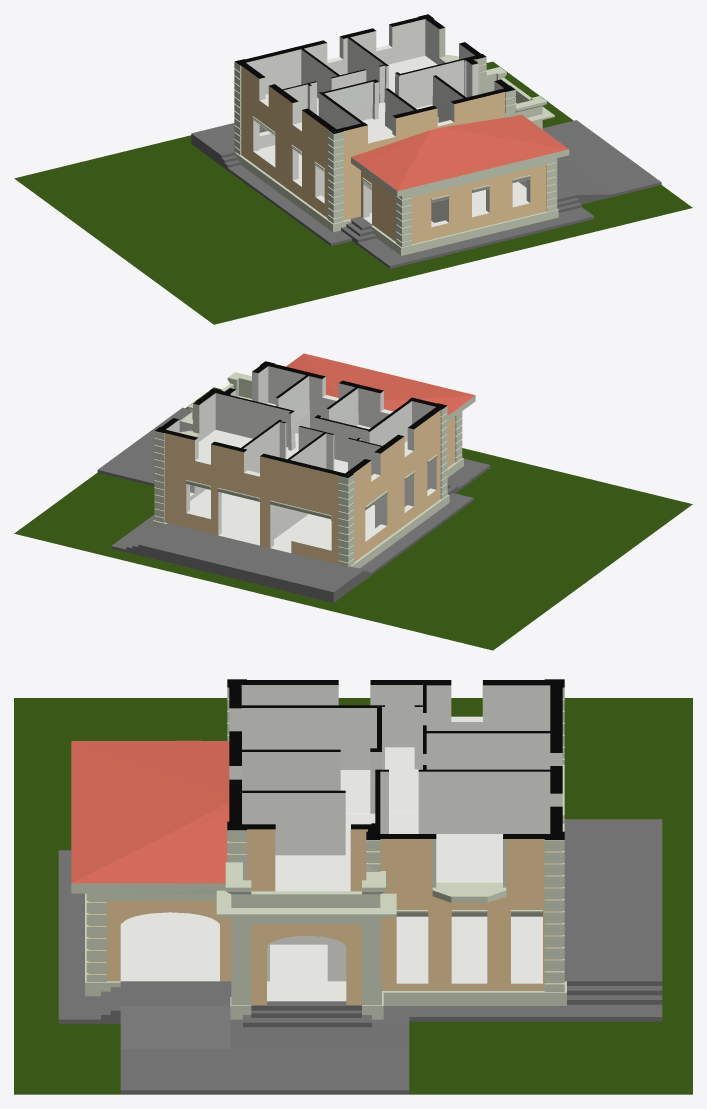
Rendered from casaStolnicu_2ND-FLOOR.glb.
The picture shows the model from 3 angles, top to bottom: view 1: azimuth 30°, elevation 25°; view 2: azimuth 150°, elevation 25°; view 3: azimuth 270°, elevation 25°; orthographic projection. The views are drawn at different scales.
Parts seen in each view (by area): view 1: Plane, Plane.003, Sectiune-02; view 2: Plane, Plane.003, Sectiune-02; view 3: Plane, Plane.003, Sectiune-02.
Boxes of the visible parts, box(x1,y1,x2,y2) form: Plane: box(14, 18, 692, 324); Plane.003: box(246, 19, 530, 227); Sectiune-02: box(234, 14, 515, 133); Plane: box(14, 353, 692, 650); Plane.003: box(166, 366, 436, 552); Sectiune-02: box(155, 361, 446, 478); Plane: box(14, 680, 692, 1094); Plane.003: box(120, 685, 562, 1001); Sectiune-02: box(227, 679, 564, 839).
Bounding box in the file's own units: 28.4 × 5.67 × 20.53.
